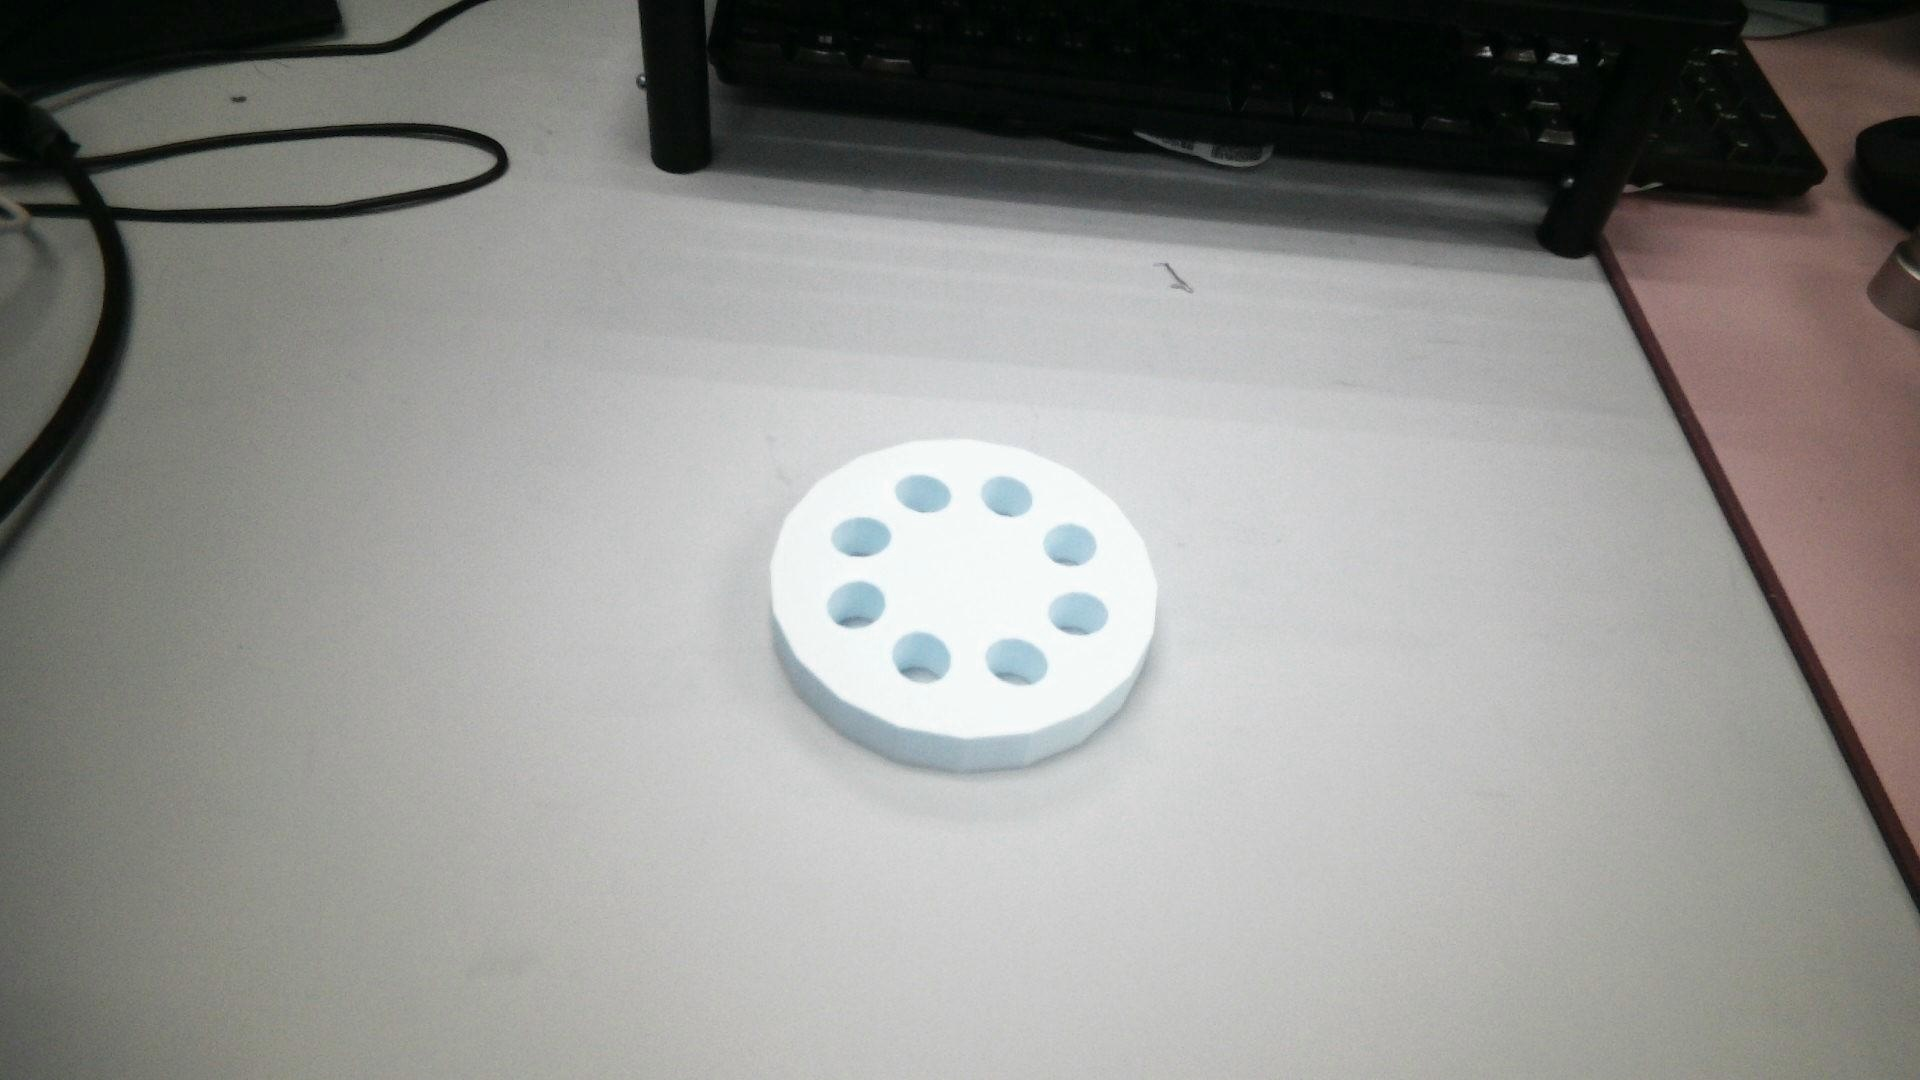hole: (976, 636, 1050, 692), (1044, 582, 1106, 638), (828, 506, 890, 560), (891, 628, 949, 684), (891, 469, 951, 516), (825, 582, 880, 628), (1038, 518, 1092, 560), (978, 476, 1031, 516)
obj: (767, 423, 1156, 777)
